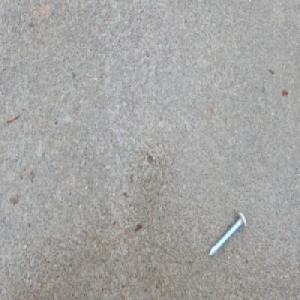Nail: (208, 210, 247, 259)
